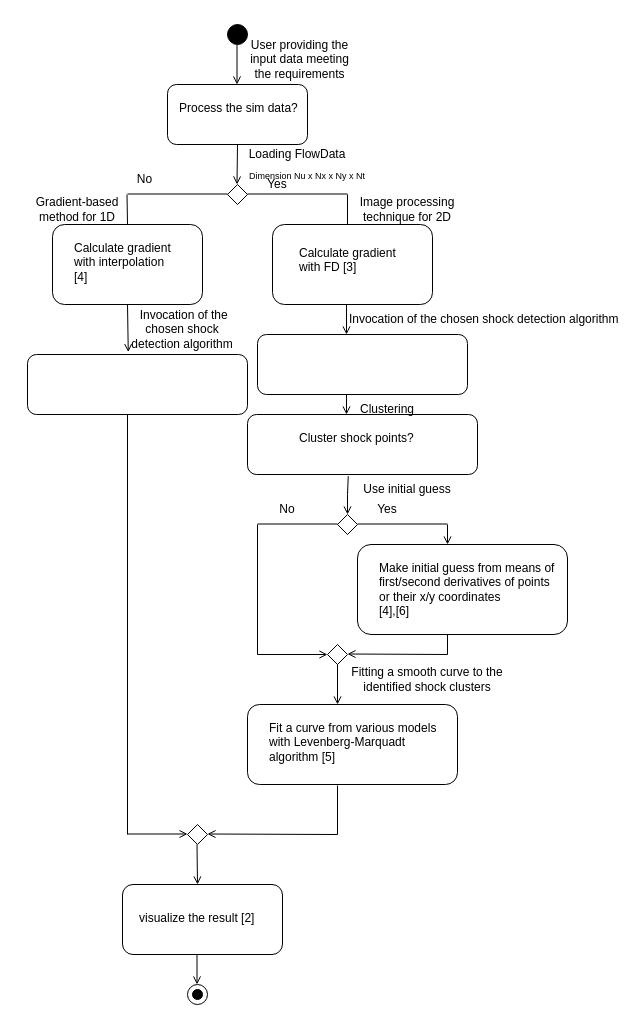
This 644x1022 diagram has some shape labels left out. Each missing label, with the box of its shape:
Get shock points (points with high gradients magnitude): (256, 334, 468, 394)
Get shock points (points with high gradients): (26, 354, 248, 414)
